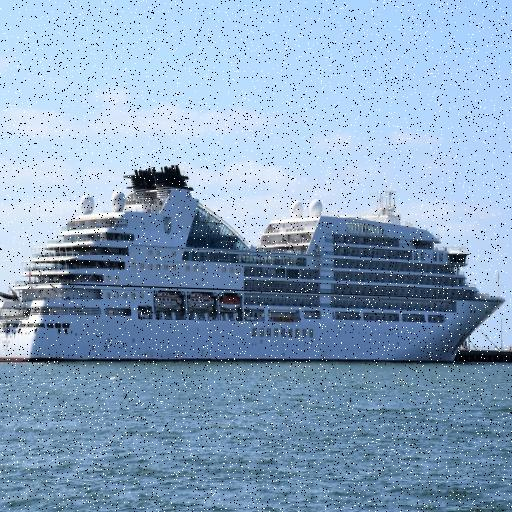cruises: (1, 160, 510, 372)
